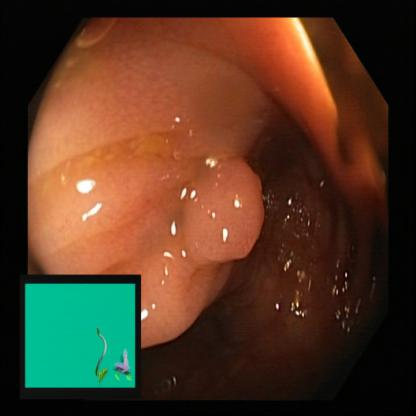Labels: (22, 274, 142, 393)
Polyps: (189, 161, 268, 266)
